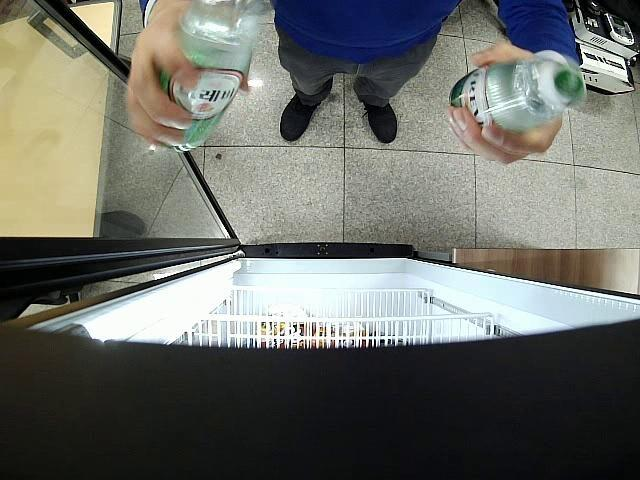18_trevi: (162, 0, 266, 147), (449, 54, 584, 132)
